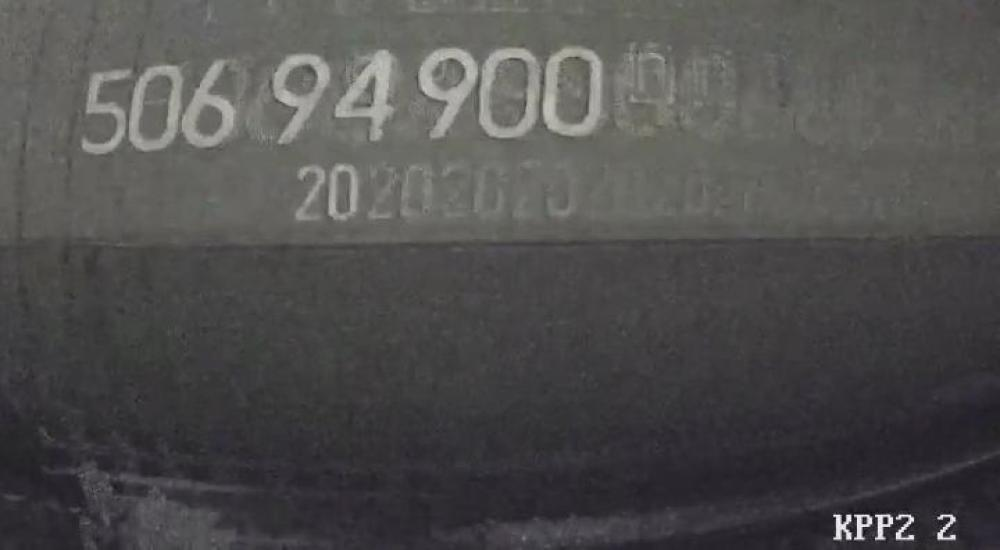Wagon-number: (70, 40, 609, 161)
